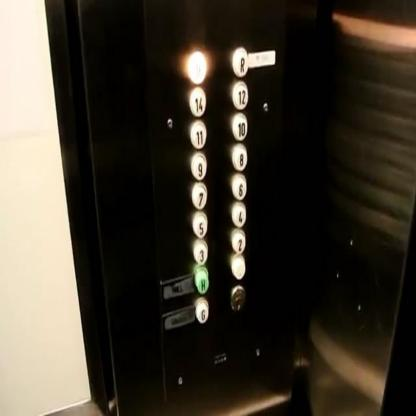10: (229, 110, 247, 141)
11: (189, 119, 208, 148)
12: (230, 80, 248, 110)
14: (187, 85, 206, 116)
2: (228, 230, 246, 256)
3: (192, 237, 210, 264)
4: (229, 198, 247, 229)
5: (191, 209, 209, 238)
6: (230, 171, 247, 200)
7: (190, 176, 207, 210)
8: (229, 140, 249, 172)
9: (188, 151, 208, 180)
G: (194, 296, 211, 325)
H: (192, 266, 210, 297)
R: (230, 44, 248, 78)
blur: (186, 46, 208, 85)
empty: (229, 252, 246, 279)
keyhole: (229, 282, 246, 316)
